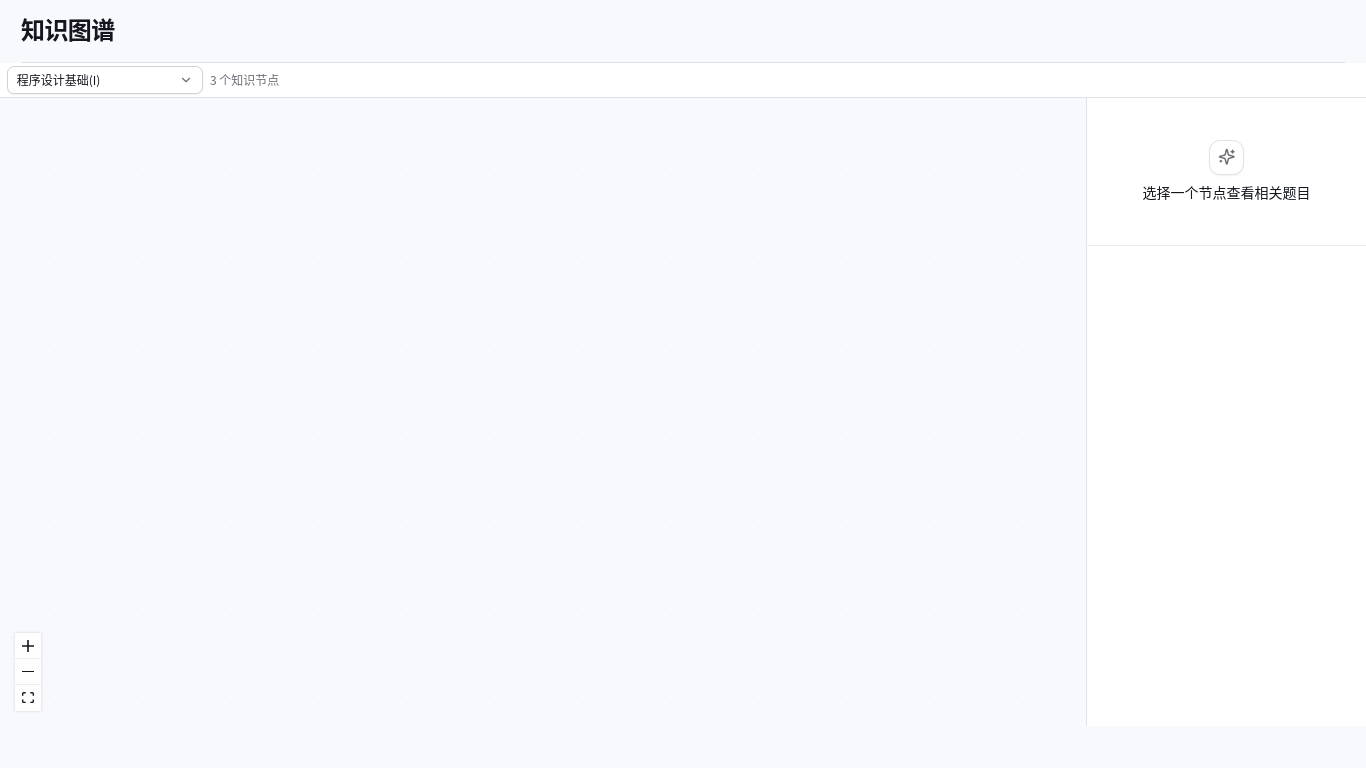
public mindmap page by course node › marks a hidden course as only visible to you
Step 1. Click the dropdown named "课程" → (105, 80), box left=7, top=66, right=203, bottom=94
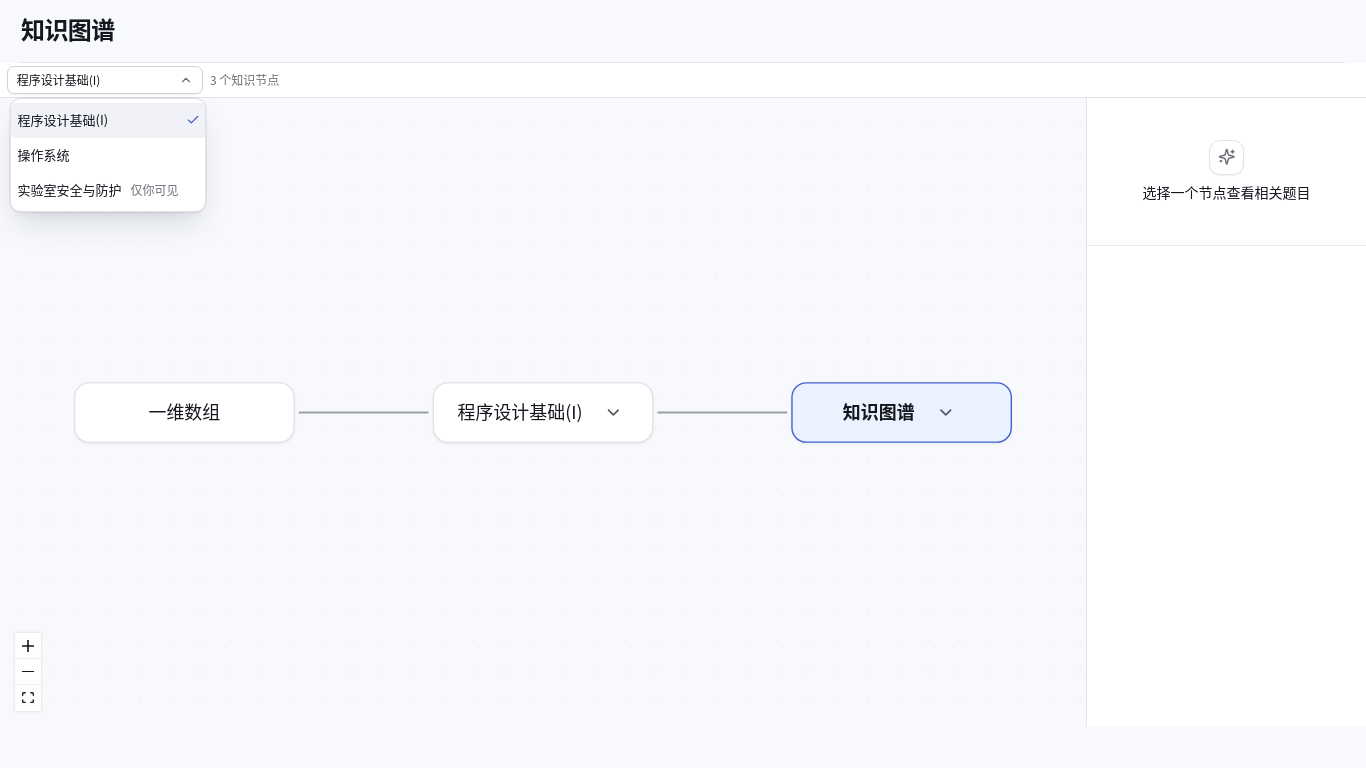
expect the option "程序设计基础(I)" does not show "仅你可见": met, box left=10, top=102, right=206, bottom=138
expect the option "实验室安全与防护 仅你可见" is shown: met, box left=18, top=180, right=178, bottom=199
